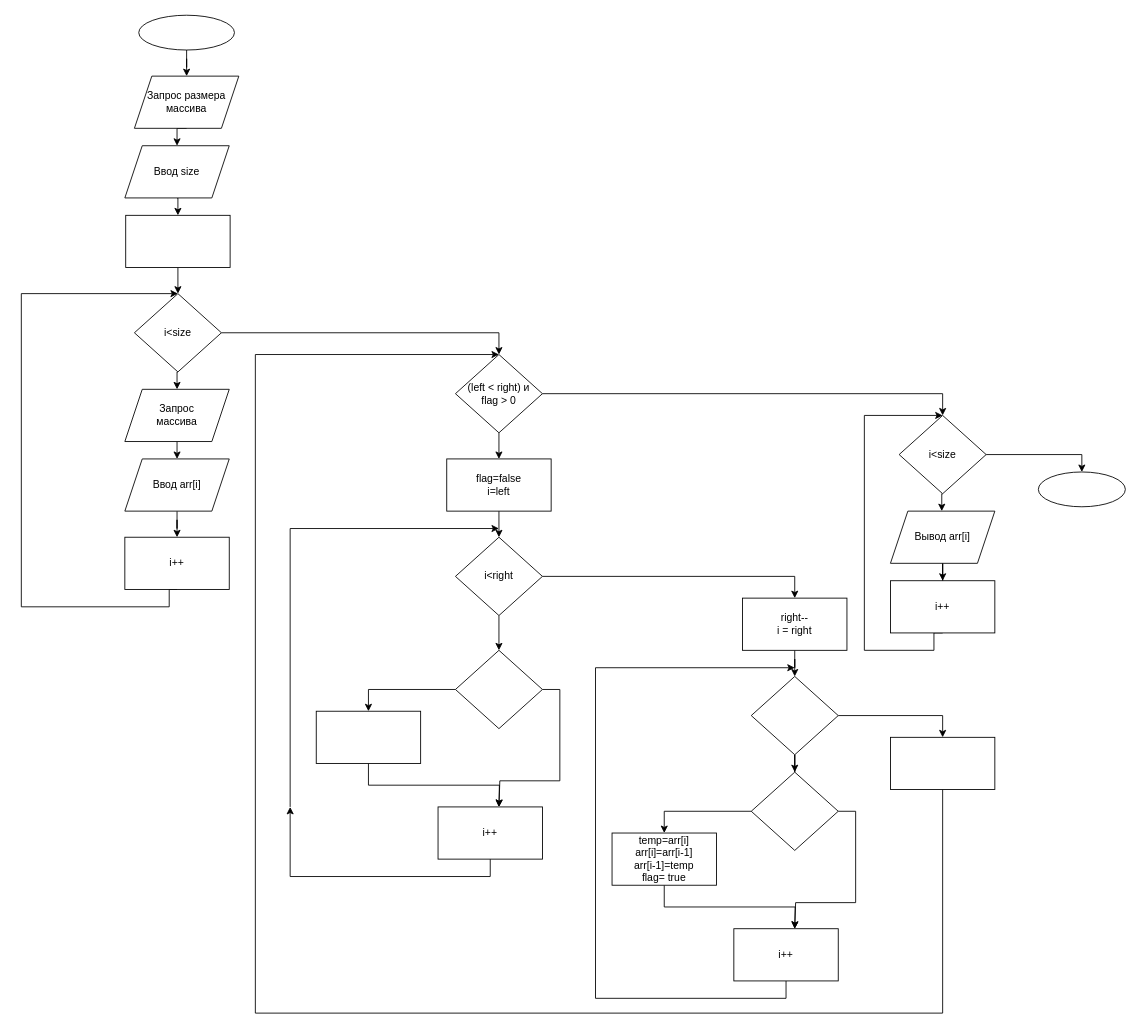
Image size: 1141x1035. Some labels were removed from this diagram. The box of each missing label's shape, as (x1, y1, x2, y2) in pixels:
arr[i-1]>arr[i]: (750, 771, 838, 850)
arr[i]>arr[i+1]: (455, 649, 542, 729)
End: (1037, 471, 1125, 507)
i > left: (750, 676, 838, 755)
left =0; right= size-1 flaf = true; i=0: (125, 214, 230, 268)
left++: (890, 736, 995, 790)
Start: (138, 14, 234, 50)
temp=arr[i] arr[i]=arr[i+1] arr[i+1]=temp flag= true: (315, 710, 421, 763)
